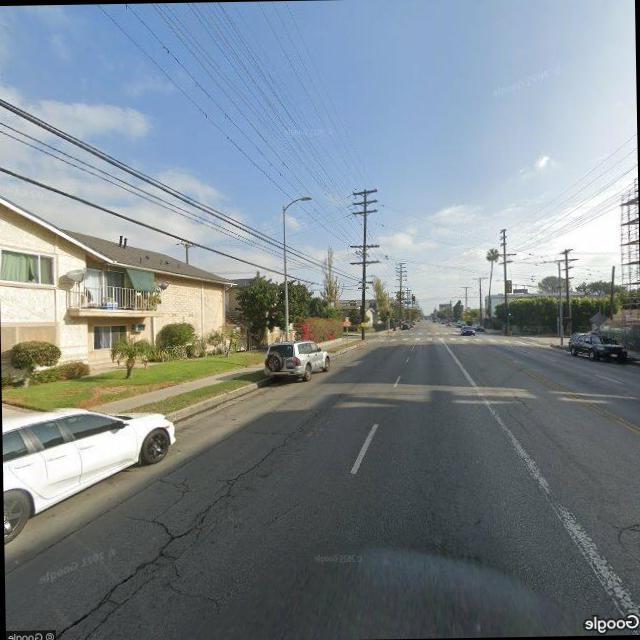crack: (66, 394, 336, 628)
